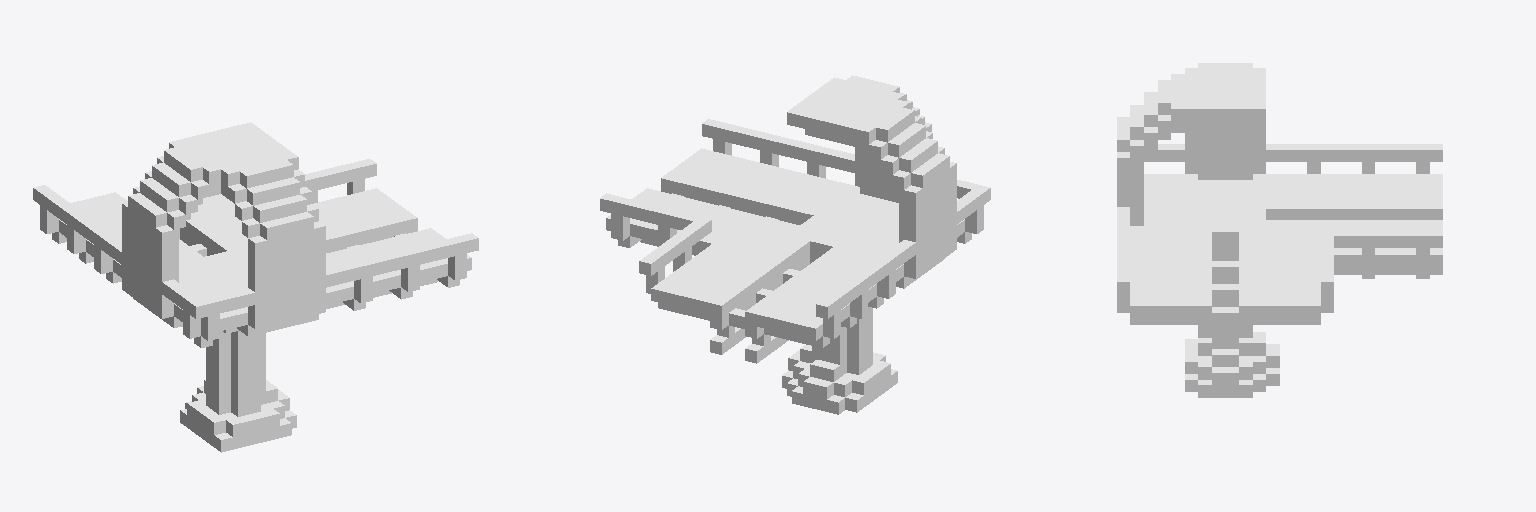
File: bridgeCorner.obj
3 views of the same model, side by side, from view 1: azimuth 30°, elevation 25°; view 2: azimuth 150°, elevation 25°; view 3: azimuth 270°, elevation 25° (orthographic).
Visible parts, largest first — view 1: bridgeCorner; view 2: bridgeCorner; view 3: bridgeCorner.
Part boxes in pixels (left/top/right/bottom): bridgeCorner: left=33, top=122, right=478, bottom=452; bridgeCorner: left=600, top=75, right=990, bottom=414; bridgeCorner: left=1117, top=63, right=1442, bottom=397.
Size of the model in its own units: 2.4 by 2.3 by 2.4.